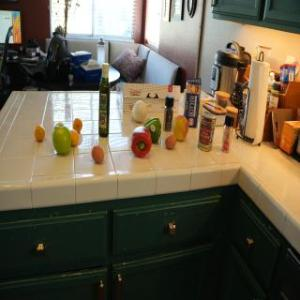bell_pepper: (130, 125, 150, 159), (144, 118, 162, 144)
egg: (92, 146, 108, 166), (166, 134, 176, 150)
onion: (130, 101, 148, 121)
